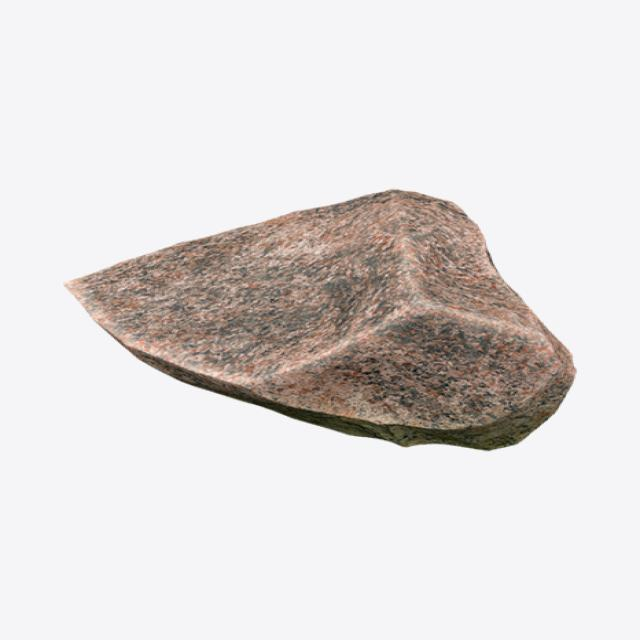Igneous: (18, 191, 593, 452)
